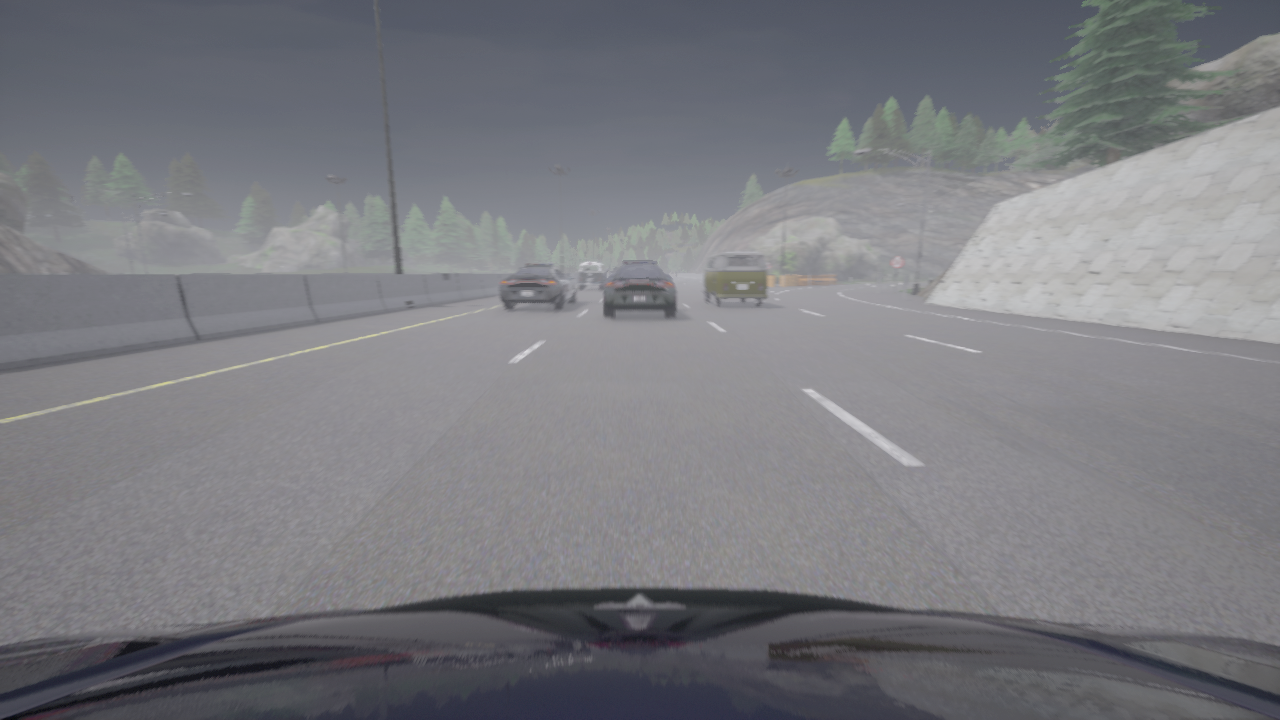cyclist: (0, 588, 1279, 719), (604, 262, 675, 317), (702, 251, 767, 307), (498, 264, 575, 309), (578, 262, 607, 289), (612, 268, 619, 274)
